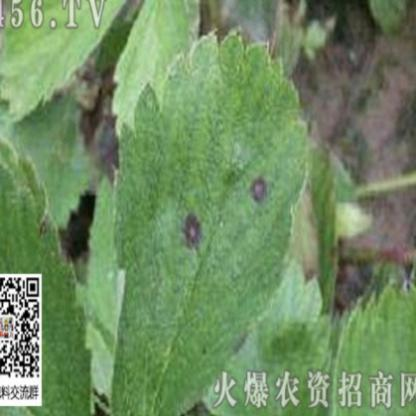Strawberry_Leaf_Spot: (109, 24, 311, 415)
